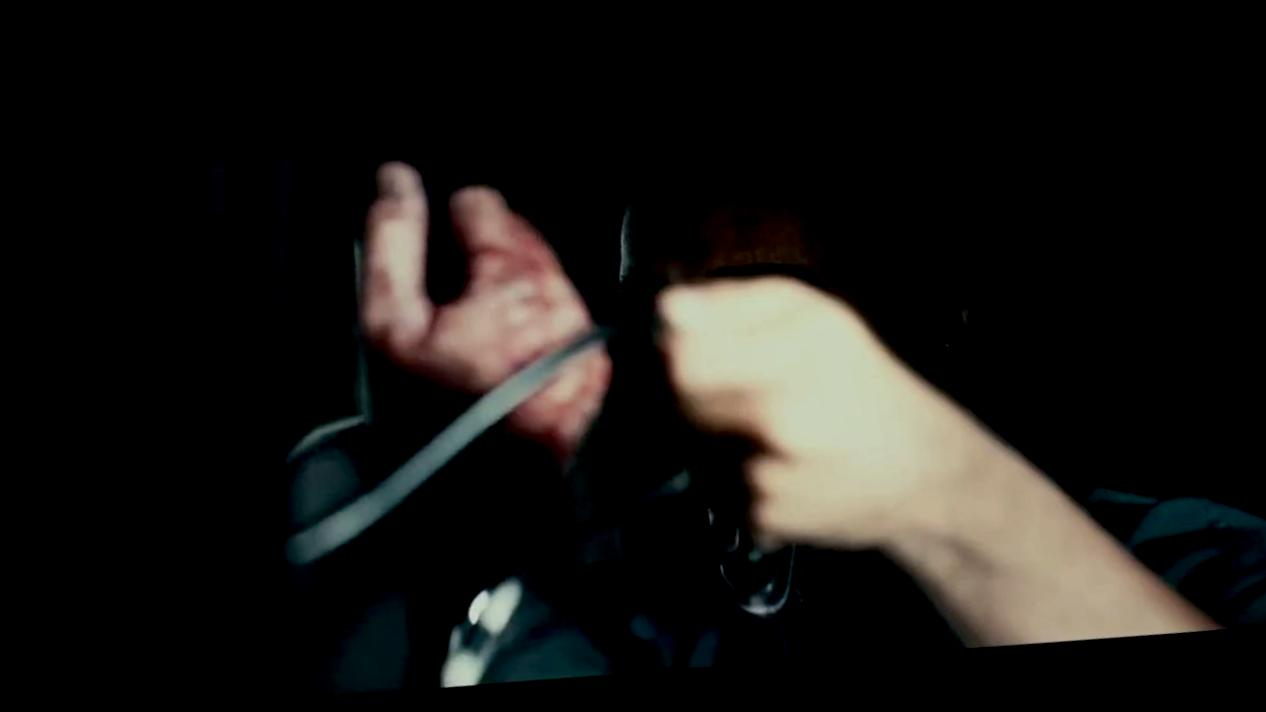Fire: (368, 177, 557, 375), (494, 347, 607, 475)
